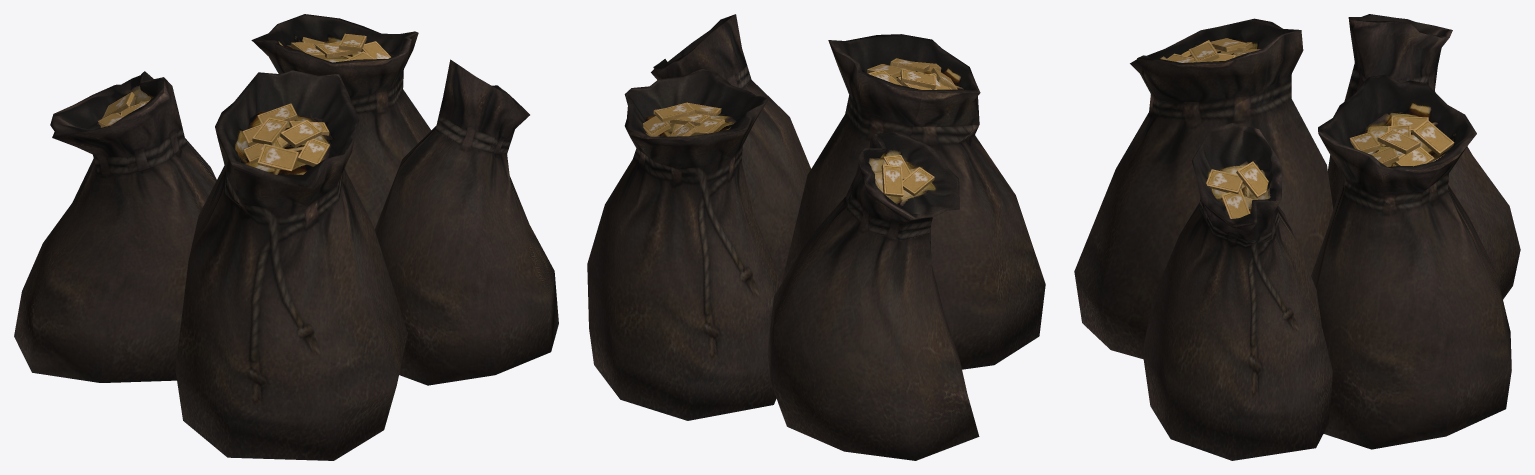
The model's file is SM_TreasureBags01.FBX.
3 views of the same model, side by side, from view 1: azimuth 30°, elevation 25°; view 2: azimuth 150°, elevation 25°; view 3: azimuth 270°, elevation 25° (orthographic). The views are drawn at different scales.
Visible parts, largest first — view 1: SM_TreasureBags01; view 2: SM_TreasureBags01; view 3: SM_TreasureBags01.
Part boxes in pixels (x1,y1,x2,y2): SM_TreasureBags01: [14, 14, 558, 460]; SM_TreasureBags01: [587, 14, 1045, 460]; SM_TreasureBags01: [1074, 14, 1520, 460].
Size of what is drawn, in the model's own units: 47.4 by 40.57 by 31.9.
